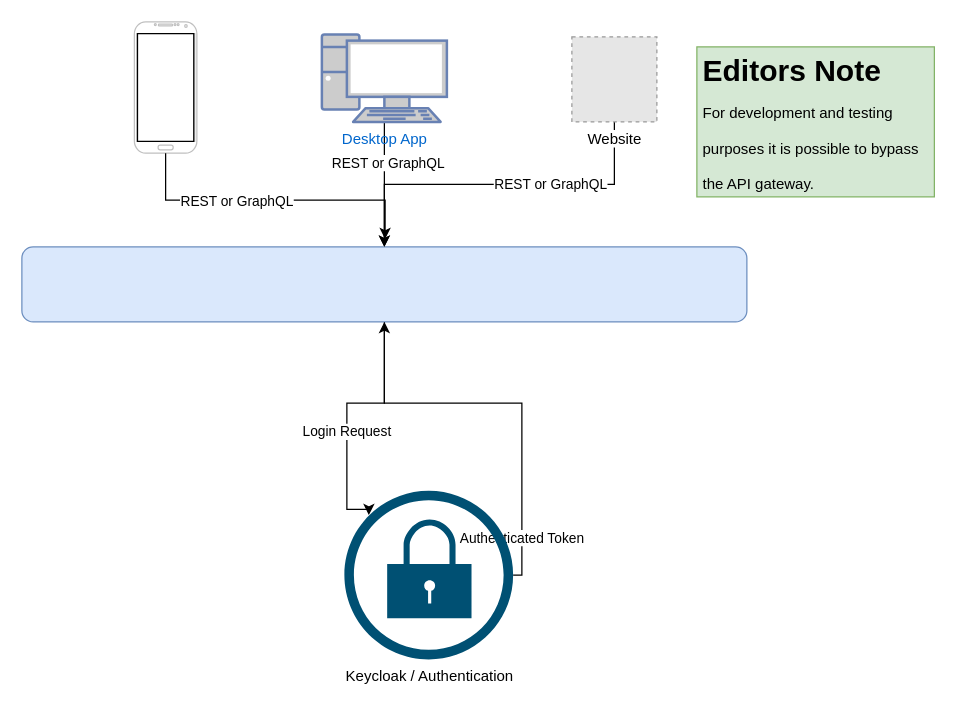
The diagram is 956 pixels wide and 708 high, and some of its shapes have lost their labels. Grey dashed boxes stand in for pictures. The shapes that lost their labels are listed below. From the top down, each one's centre as x and y in pixels, then its label:
point 165,86: Mobile App
point 384,284: API GateWay Apache APISIX
